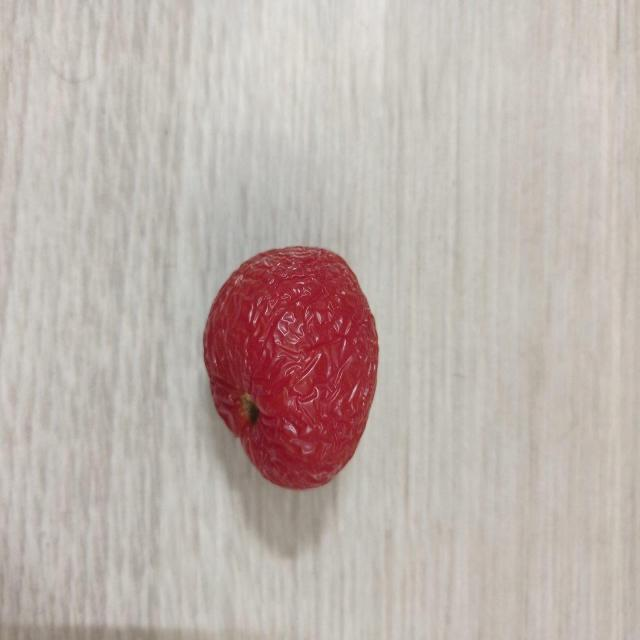overripe: (200, 243, 382, 492)
